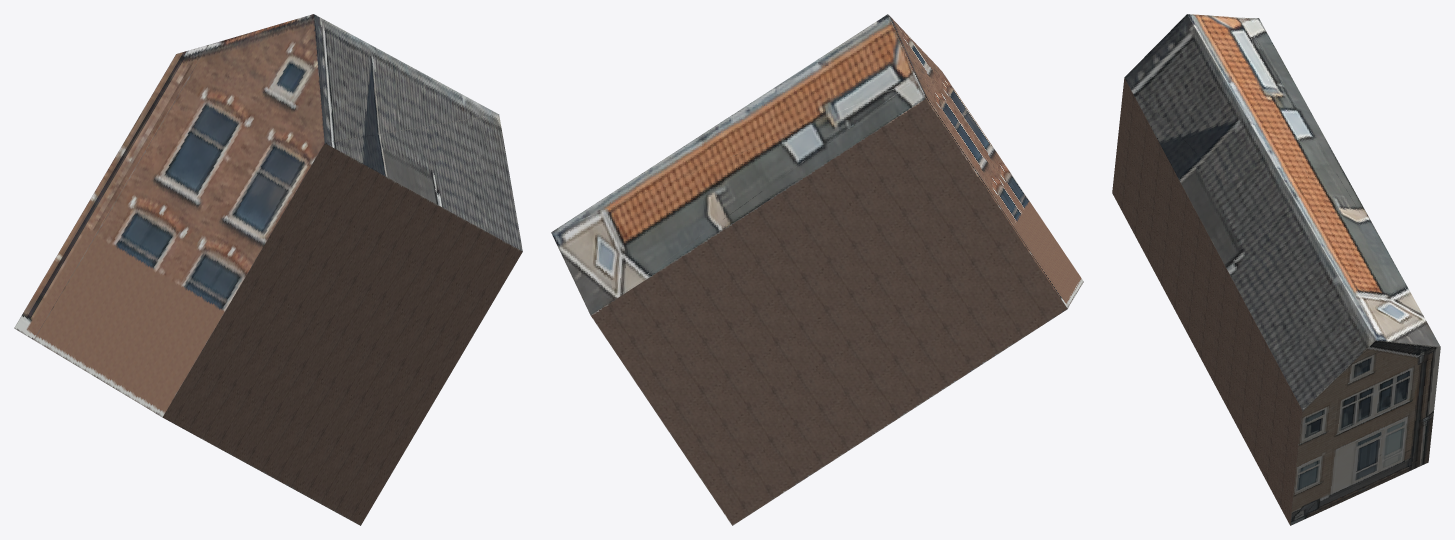
3 views of the same model, side by side, from view 1: azimuth 30°, elevation 25°; view 2: azimuth 150°, elevation 25°; view 3: azimuth 270°, elevation 25° (orthographic). The views are drawn at different scales.
Visible parts, largest first — view 1: BAG_0599100000656923 (×3); view 2: BAG_0599100000656923 (×3); view 3: BAG_0599100000656923 (×3).
Boxes of the visible parts, x1=… form: BAG_0599100000656923 (×3): x1=14, y1=14, x2=522, y2=525; BAG_0599100000656923 (×3): x1=551, y1=14, x2=1083, y2=525; BAG_0599100000656923 (×3): x1=1112, y1=14, x2=1440, y2=525.
Size of the model in its own units: 15.77 by 15.62 by 9.93.
Materials: 1 (1 with a texture image).
